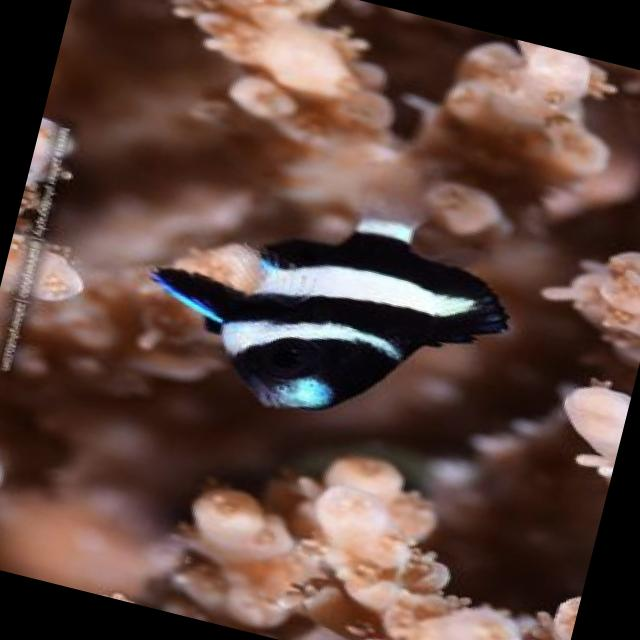ThreeStripedDamselfish: (146, 179, 509, 410)
